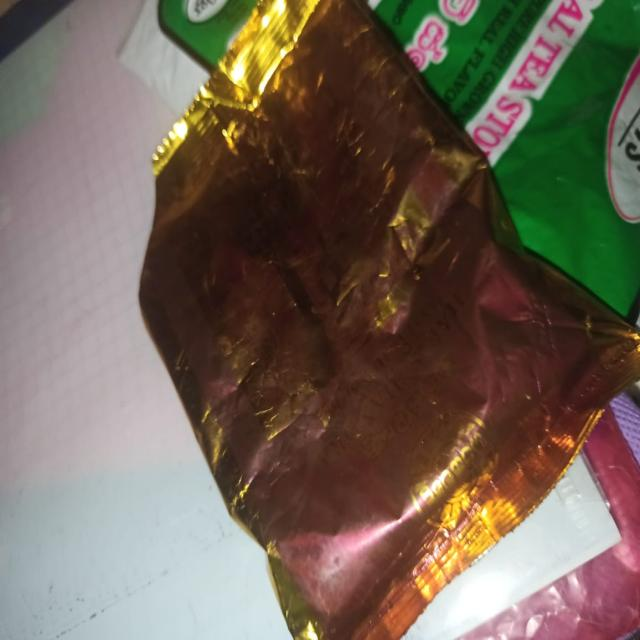Harischandra Coffee: (129, 35, 573, 614)
